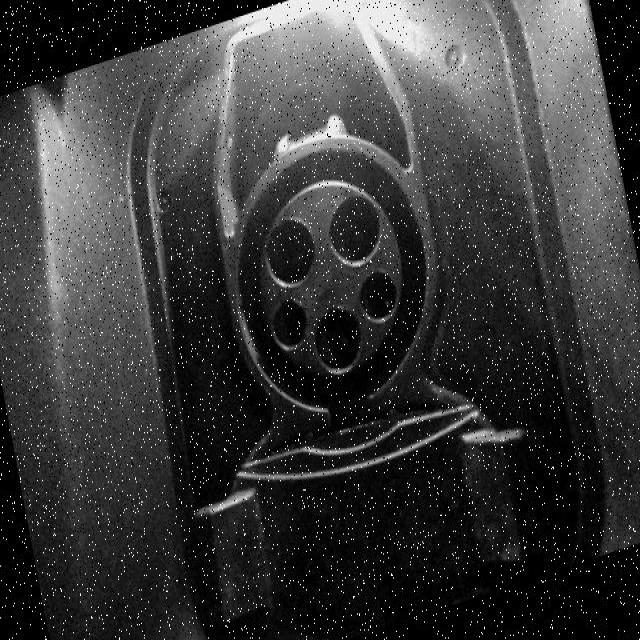Type 1: (229, 160, 416, 394)
